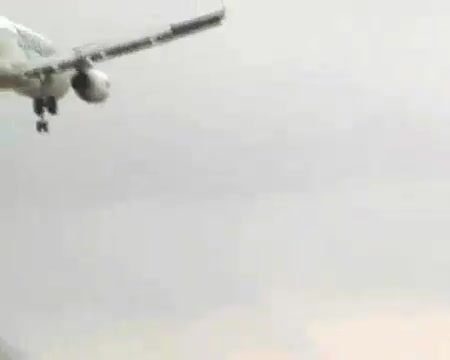aeroplane: (1, 6, 226, 136)
